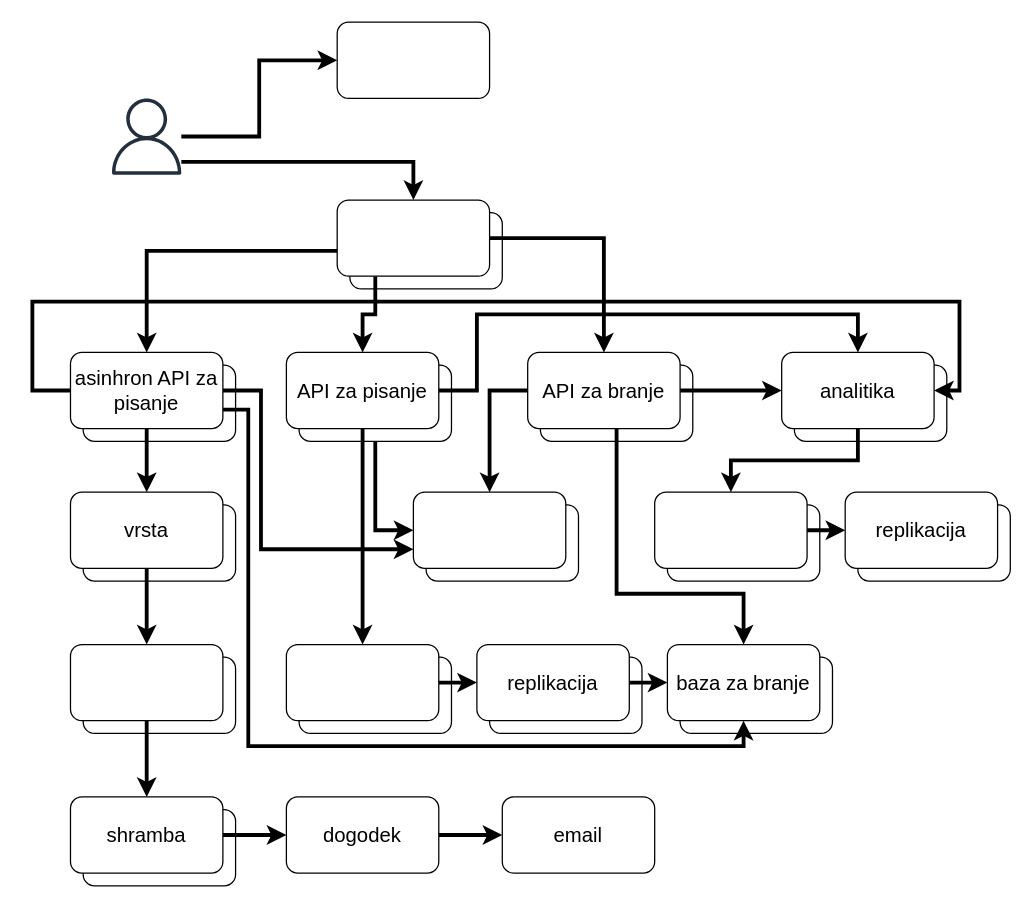
This 1033x908 diagram has some shape labels left out. Here are the shapes that lost their labels. From the top down, the centre of each, then its label:
At point 413,59: "DNS".
At point 413,237: "razdelilnik obremenitve".
At point 489,529: "predpomnilnik".
At point 730,529: "glavna baza".
At point 146,682: "storitev pdf".
At point 362,682: "glavna baza za pisanje".
